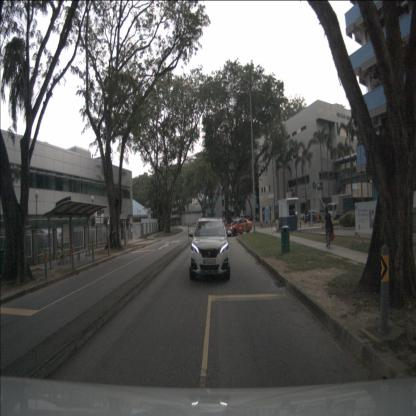human-pedestrian-adult: (324, 207, 335, 249)
vehicle-bicycle: (56, 243, 68, 265)
vehicle-car: (190, 217, 230, 280), (225, 218, 252, 237), (33, 228, 55, 248), (302, 209, 322, 224)
vehicle-truck: (327, 194, 353, 222)
